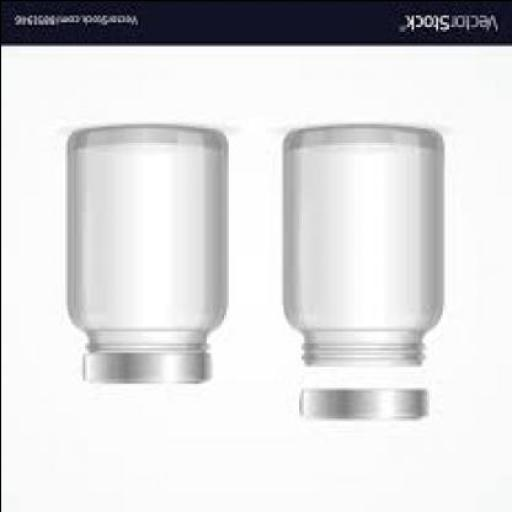glass: (285, 128, 447, 366), (66, 125, 229, 351)
metal: (298, 389, 433, 425), (84, 352, 214, 384)
